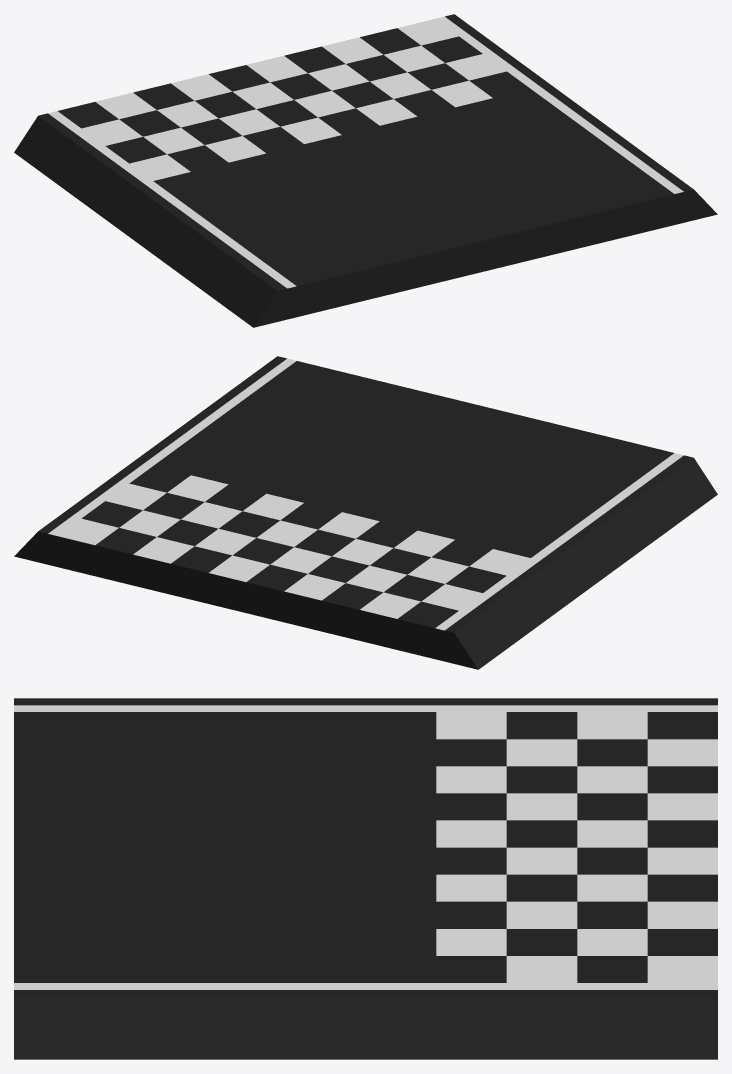
Rendered from AsphaltStart.fbx.
3 renders of one model, top to bottom at view 1: azimuth 30°, elevation 25°; view 2: azimuth 150°, elevation 25°; view 3: azimuth 270°, elevation 25°, orthographic. The views are drawn at different scales.
Visible parts, largest first — view 1: FinishStart.002; view 2: FinishStart.002; view 3: FinishStart.002.
Part boxes in pixels (<box>): FinishStart.002: <box>14,14,717,327</box>; FinishStart.002: <box>14,356,717,669</box>; FinishStart.002: <box>14,698,717,1059</box>.
Size of the model in its own units: 1120 by 71.39 by 1000.
Materials: 1 (1 with a texture image).
